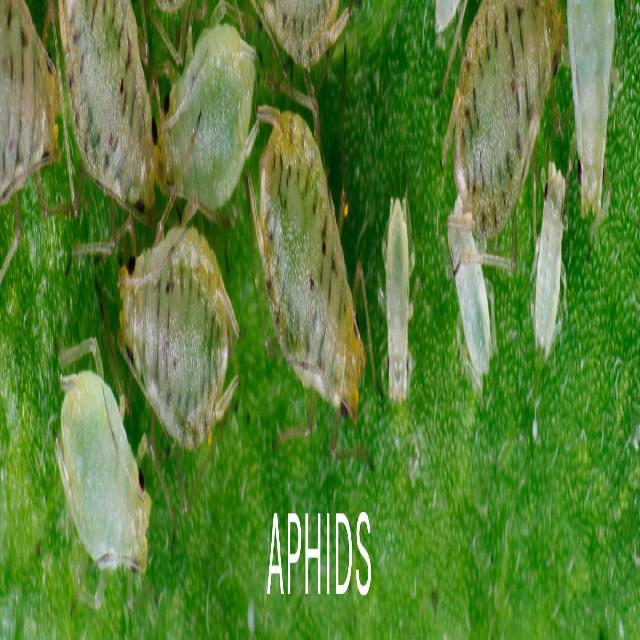Aphid-Grown-: (102, 180, 253, 530), (245, 44, 364, 445), (32, 306, 165, 638), (148, 9, 274, 234), (369, 142, 419, 468), (441, 180, 505, 433), (530, 149, 580, 396)
